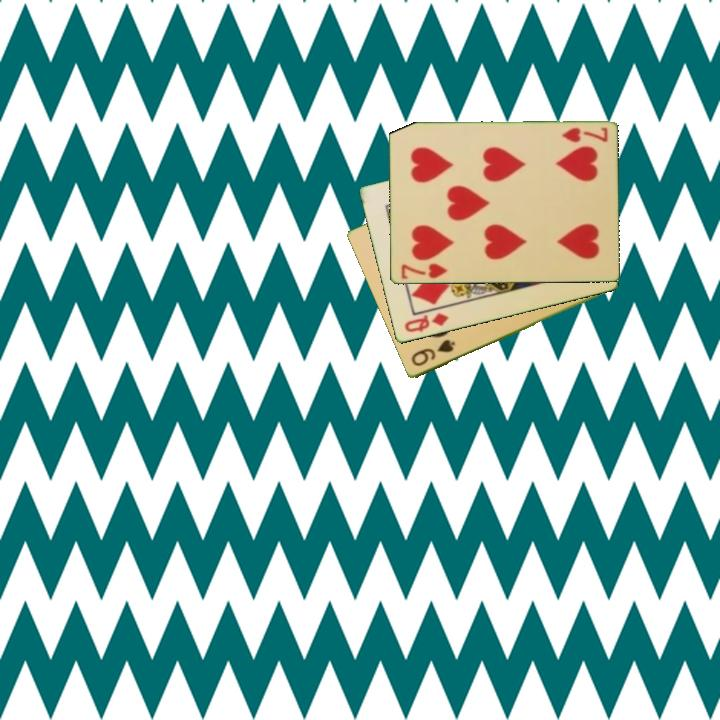7h: (397, 260, 450, 282), (558, 124, 610, 145)
9s: (407, 336, 458, 370)
Qd: (401, 309, 451, 336)
